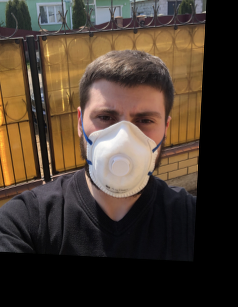with_mask: (82, 94, 165, 199)
